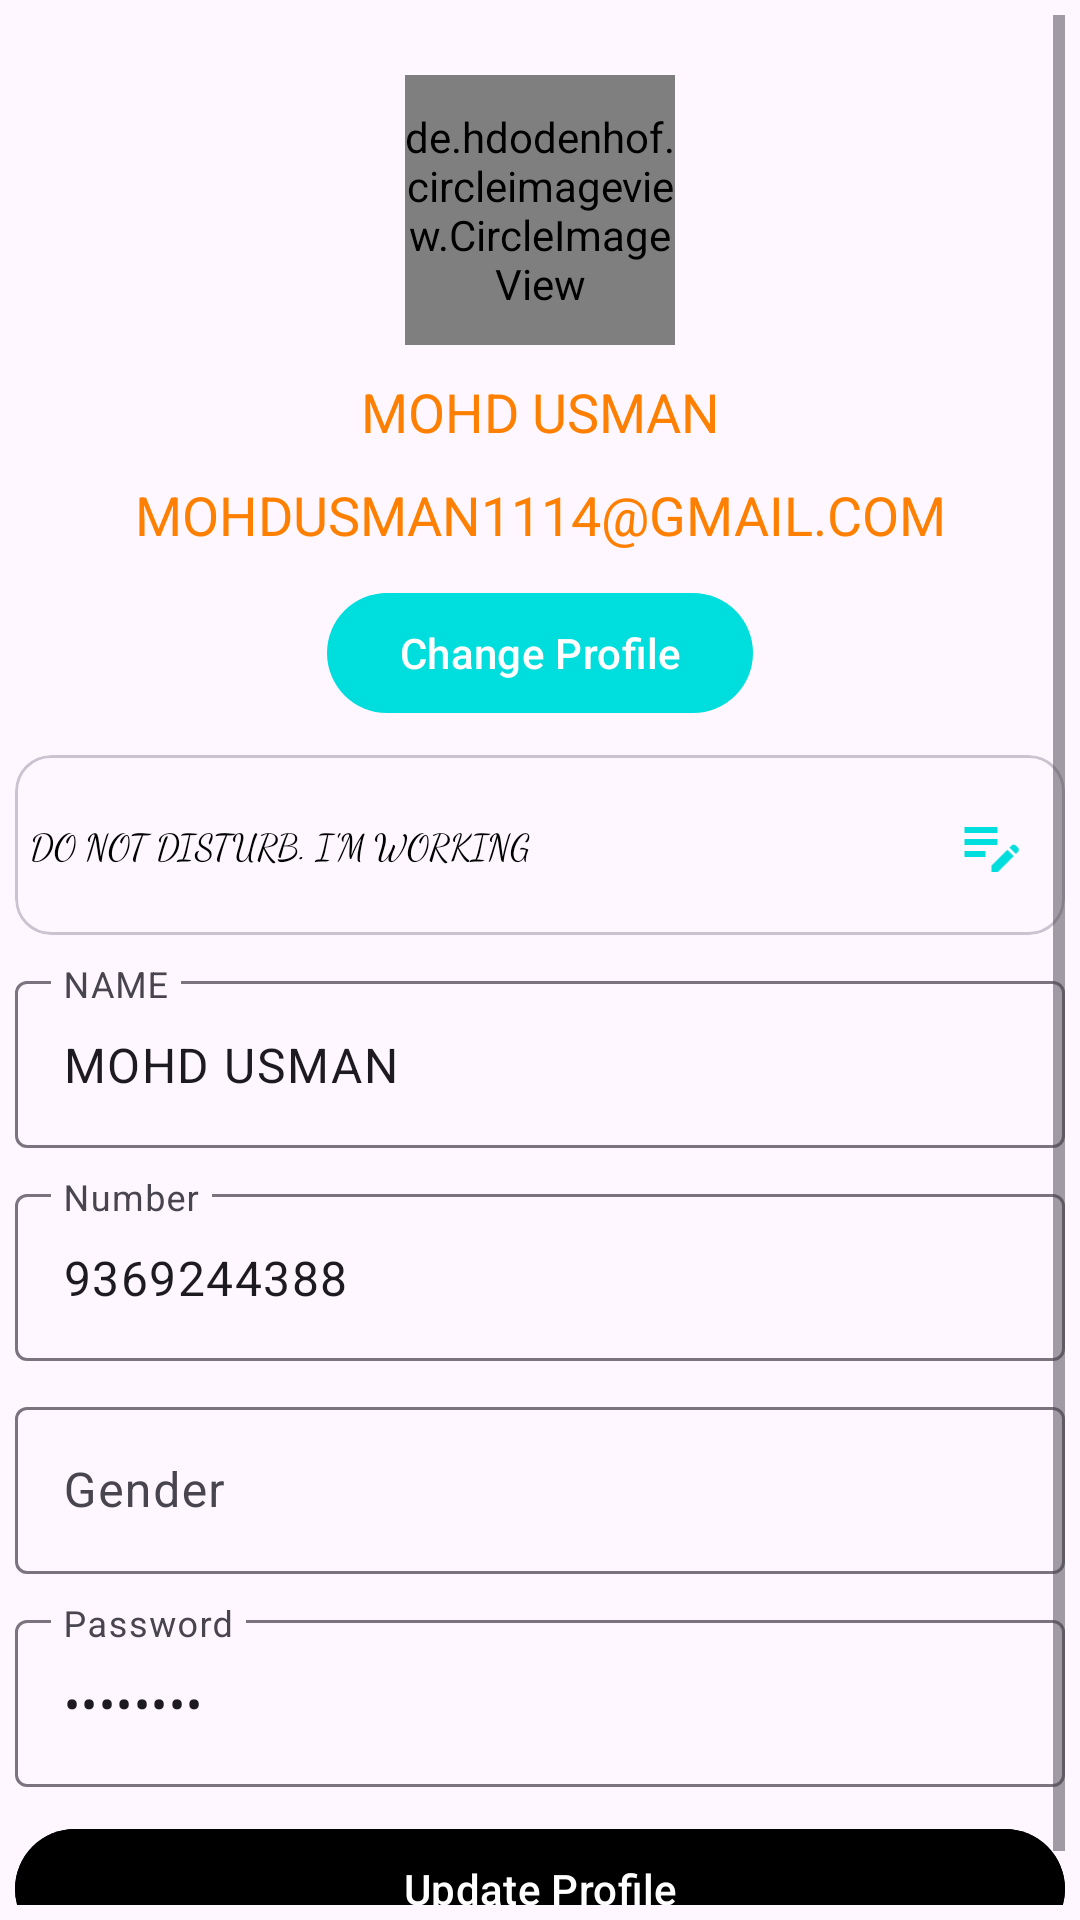

Screen size 1080w x 1920h. Icon name, then its center in pixels as point (x, y):
edit note: point (1014, 845)
